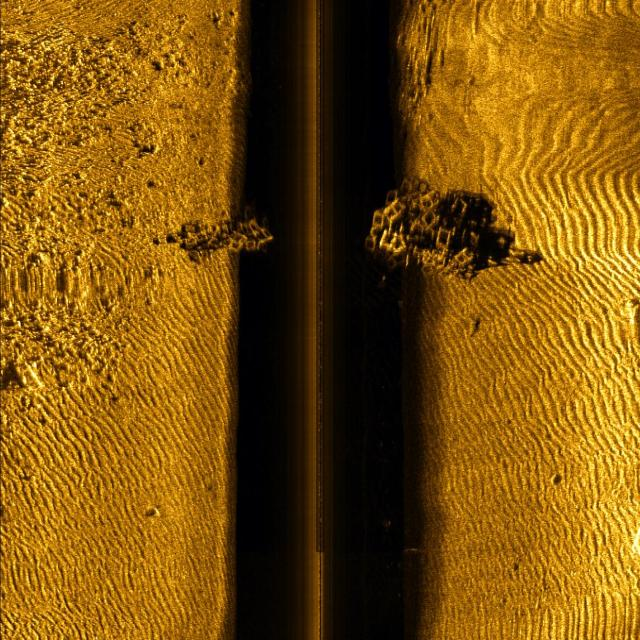artificial reef: (362, 169, 487, 286), (181, 200, 277, 270)
